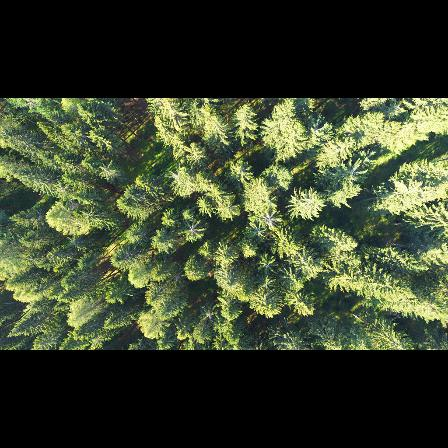Sick: (335, 161, 367, 187), (258, 207, 283, 232), (179, 220, 205, 243), (245, 221, 266, 243), (198, 306, 218, 327)
